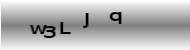3: (45, 24, 57, 40)
J: (81, 12, 92, 28)
L: (59, 20, 73, 35)
q: (109, 11, 123, 26)
w: (28, 23, 47, 35)
